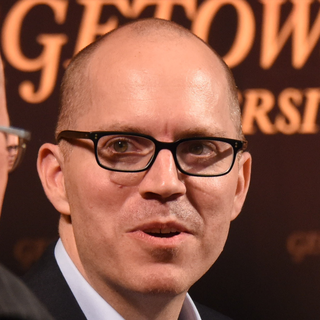eye: (100, 135, 144, 158), (180, 139, 217, 160)
